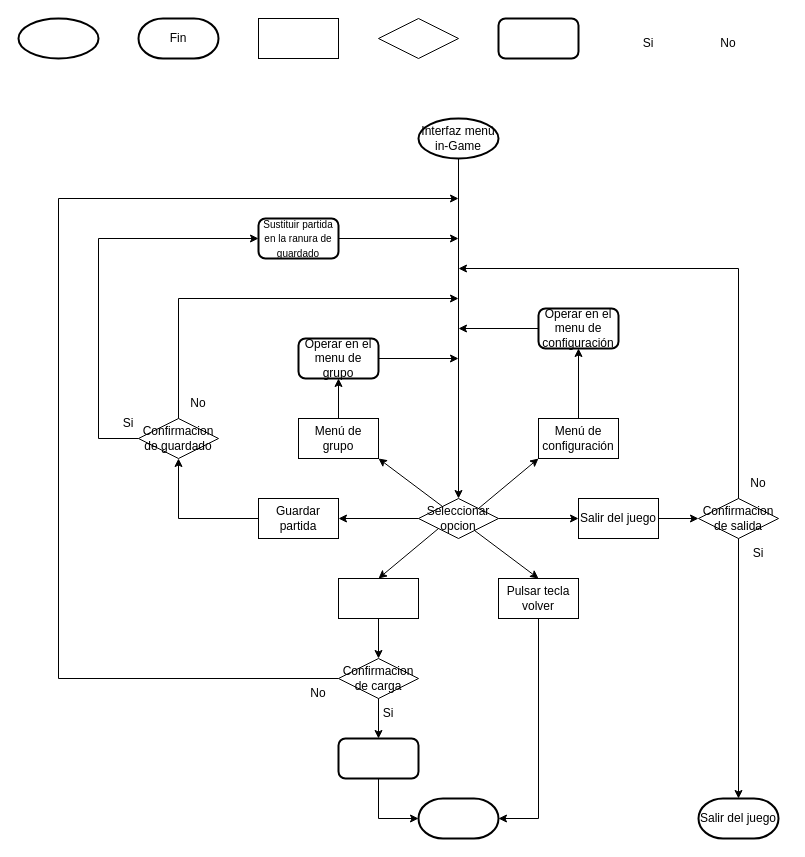
Image size: 805x857. Some labels were removed from this diagram. The shapes that lost their labels are listed below. From the top down, each one's centre as x and y in pixels, then its label:
the point at 58,38: Inicio
the point at 298,38: Opcion
the point at 418,38: Decision
the point at 538,38: Proceso
the point at 378,598: Cargar partida
the point at 378,758: Cargar partida guardada
the point at 458,818: Volver a la interfaz de mapa
